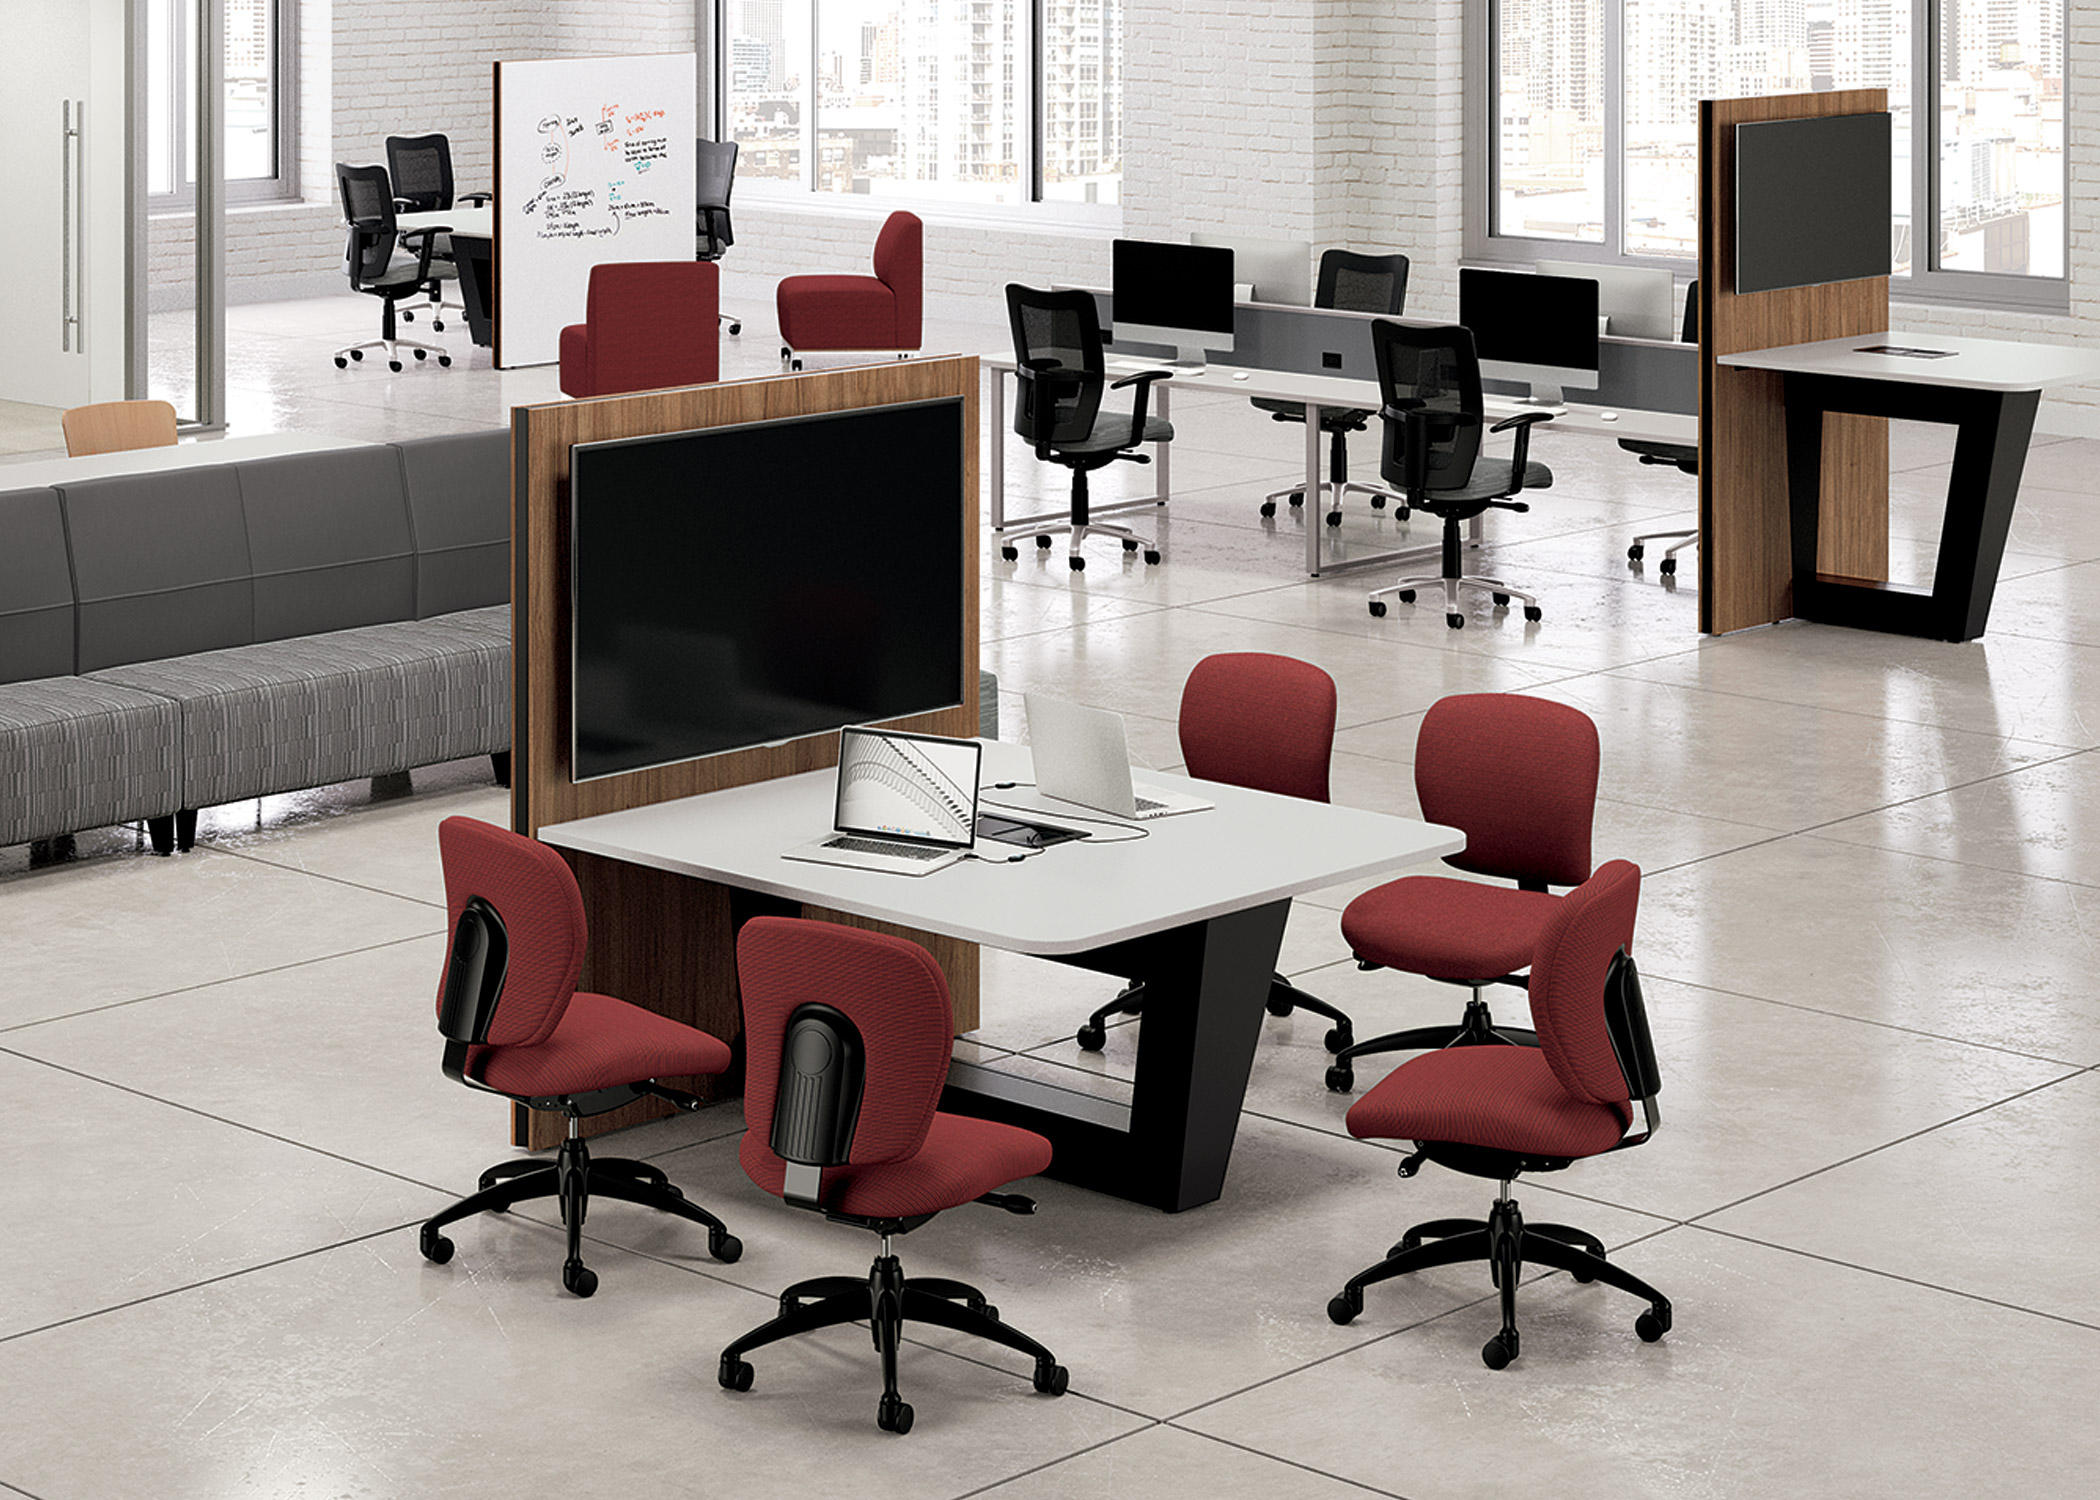conference_table: (545, 738, 1467, 1213), (989, 348, 1697, 617), (1722, 329, 2100, 643), (404, 204, 498, 346)
